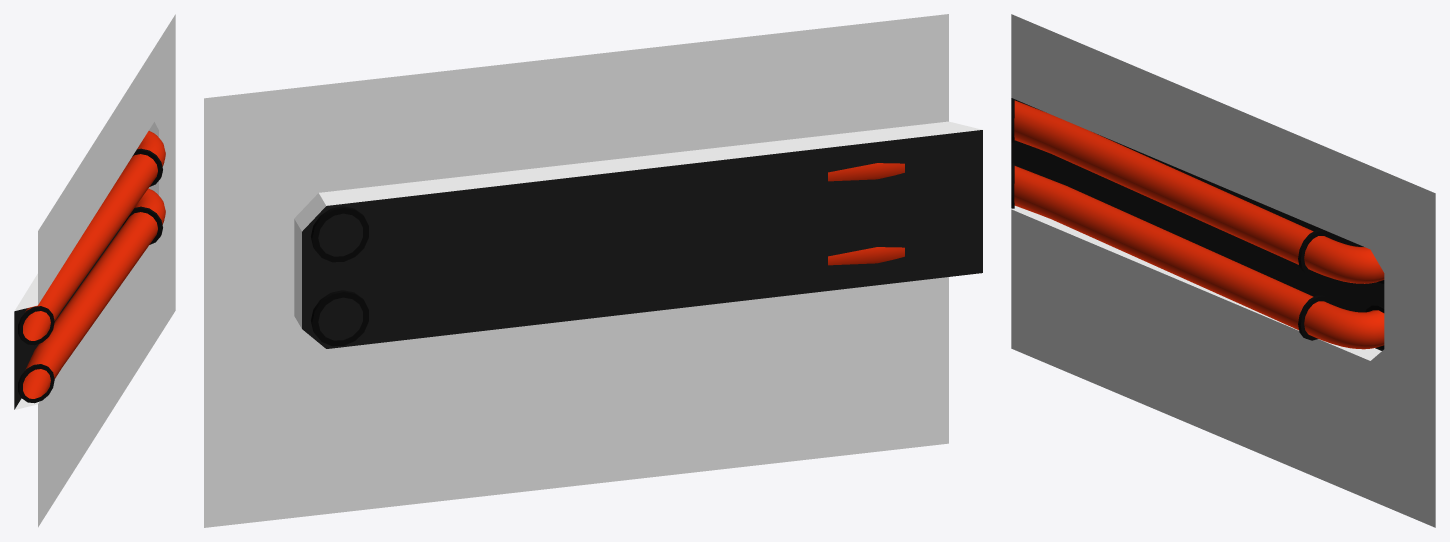
File: S_assete_basement_wall_hard_inside_corner_midel_3.fbx
The picture shows the model from 3 angles, left to right: view 1: azimuth 30°, elevation 25°; view 2: azimuth 150°, elevation 25°; view 3: azimuth 270°, elevation 25°; orthographic projection. The views are drawn at different scales.
Visible parts, largest first — view 1: basement_wall_hard_inside_corner_midel_3; view 2: basement_wall_hard_inside_corner_midel_3; view 3: basement_wall_hard_inside_corner_midel_3.
Boxes of the visible parts, x1,y1,x2,y2 form: basement_wall_hard_inside_corner_midel_3: [14, 14, 175, 527]; basement_wall_hard_inside_corner_midel_3: [204, 14, 982, 527]; basement_wall_hard_inside_corner_midel_3: [1011, 14, 1435, 527].
Bounding box in the file's own units: 247 × 200 × 230.
